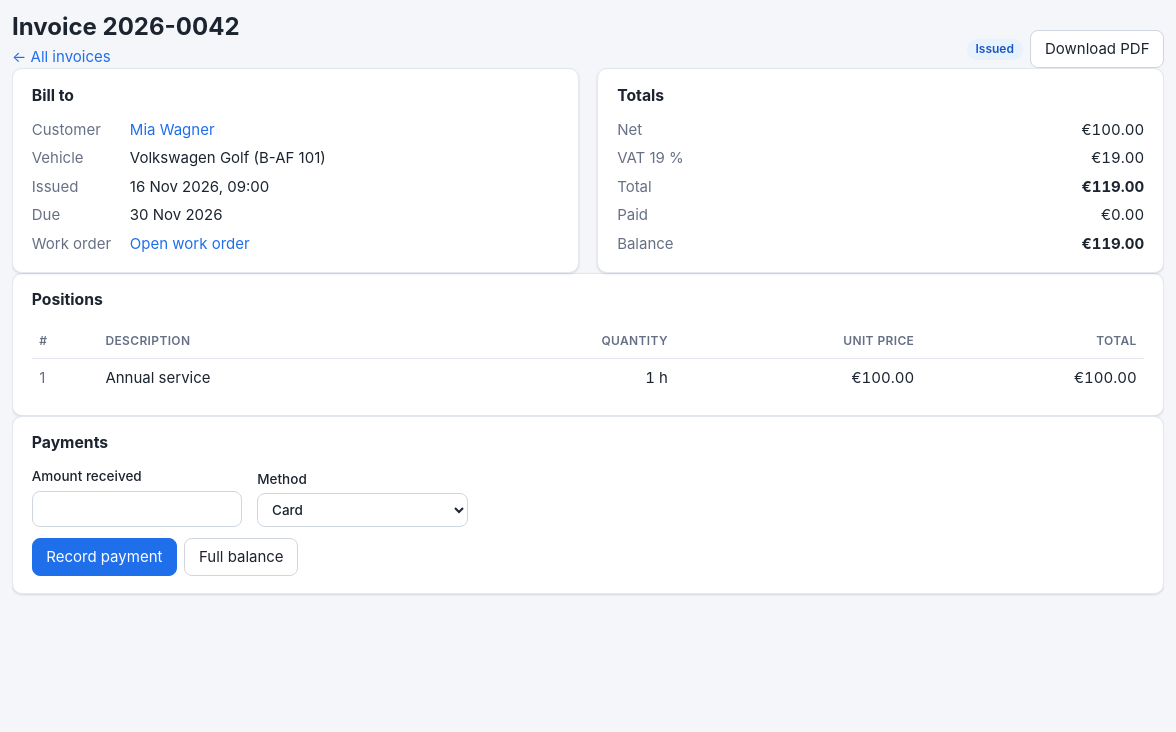
Test: InvoicePage › records a payment against the version it loaded
Type "50" into the number field labelled "Amount received" at (137, 509), box [32,491,242,527]
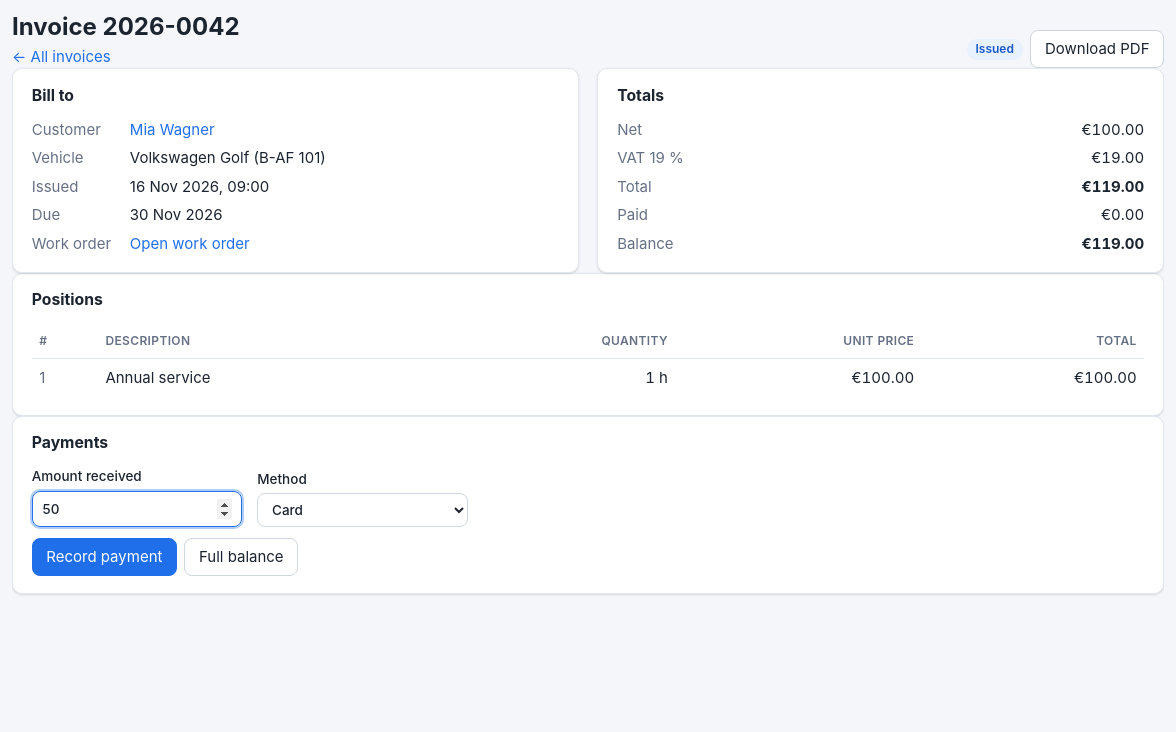
Click the button "Record payment" at (104, 557), box [32,538,177,576]
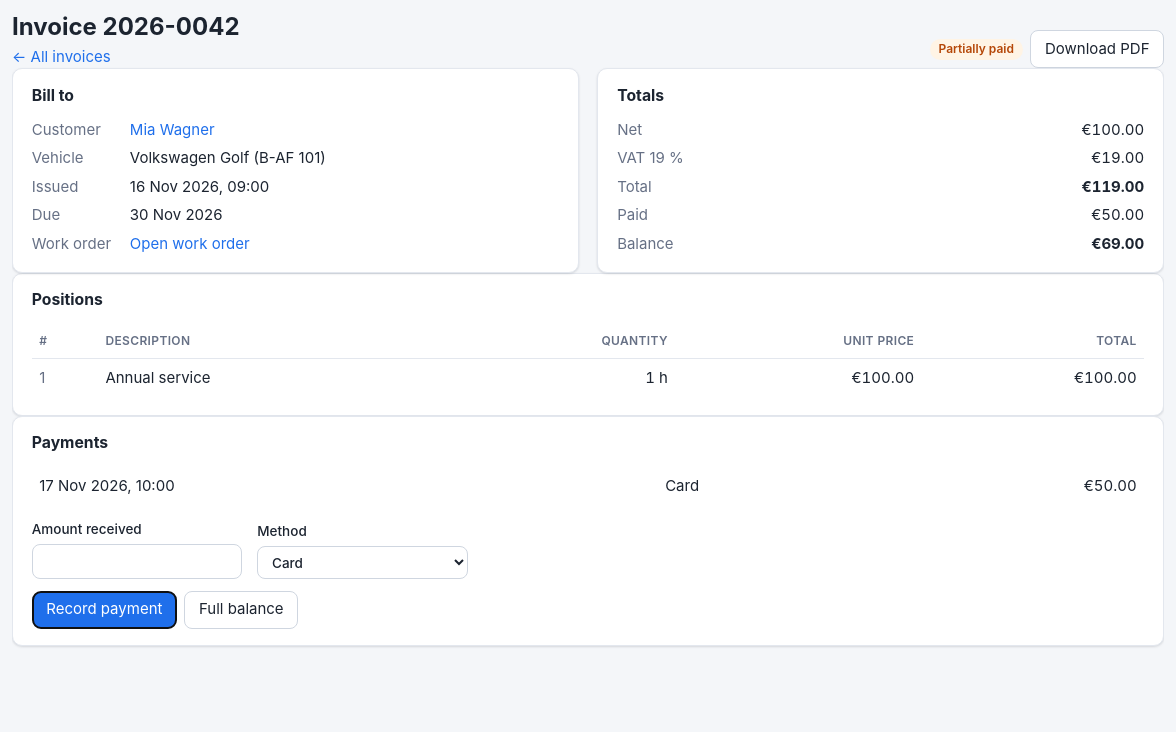
Check: the text "Partially paid" is shown, box [930,39,1023,60]
